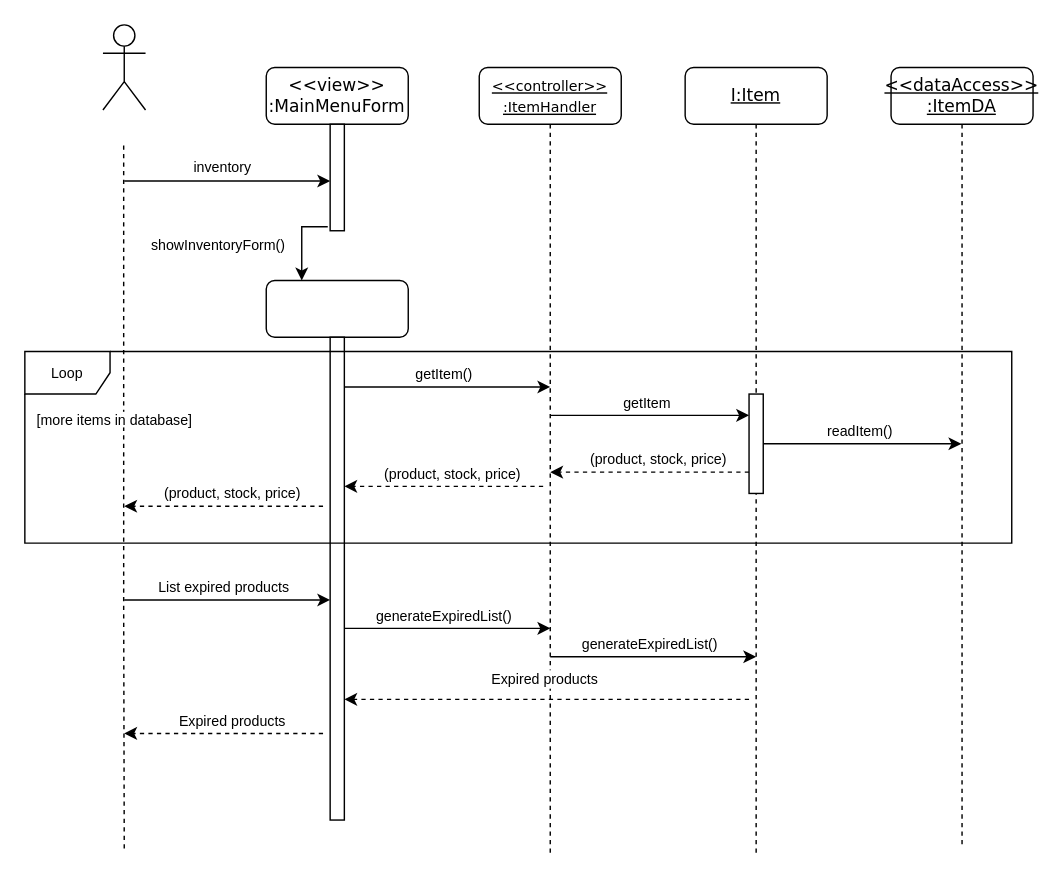
Image size: 1064x880. Some labels were removed from this diagram. The shapes that lost their labels are listed below. From the top down, each one's centre as x and y in pixels, then its label:
At [124,66]: "Order Clerk".
At [336,308]: "<<view>> :InventoryForm".
